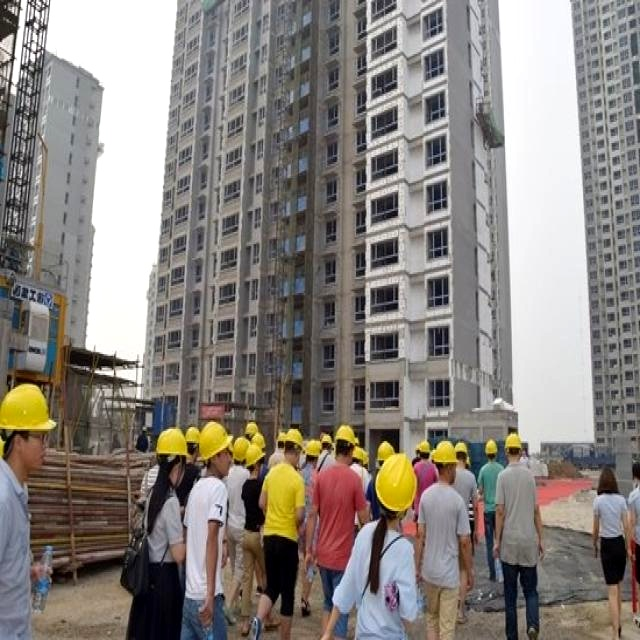Con_Casco: (0, 384, 59, 465), (374, 452, 416, 517), (335, 422, 357, 460)
